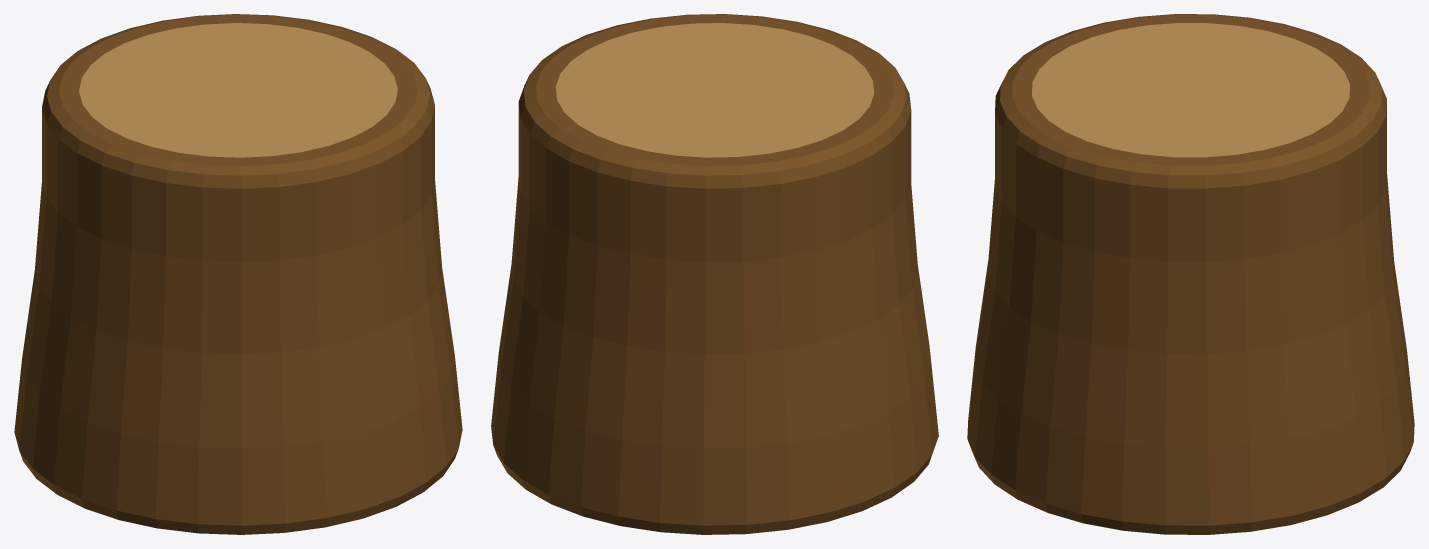
The model's file is tree-3.fbx.
3 renders of one model, left to right at view 1: azimuth 30°, elevation 25°; view 2: azimuth 150°, elevation 25°; view 3: azimuth 270°, elevation 25°, orthographic.
Parts seen in each view (by area): view 1: tree-3; view 2: tree-3; view 3: tree-3.
Part boxes in pixels (left/top/right/bottom): tree-3: left=14, top=14, right=462, bottom=534; tree-3: left=491, top=14, right=938, bottom=534; tree-3: left=967, top=14, right=1414, bottom=534.
Bounding box in the file's own units: 131 × 115 × 131.
